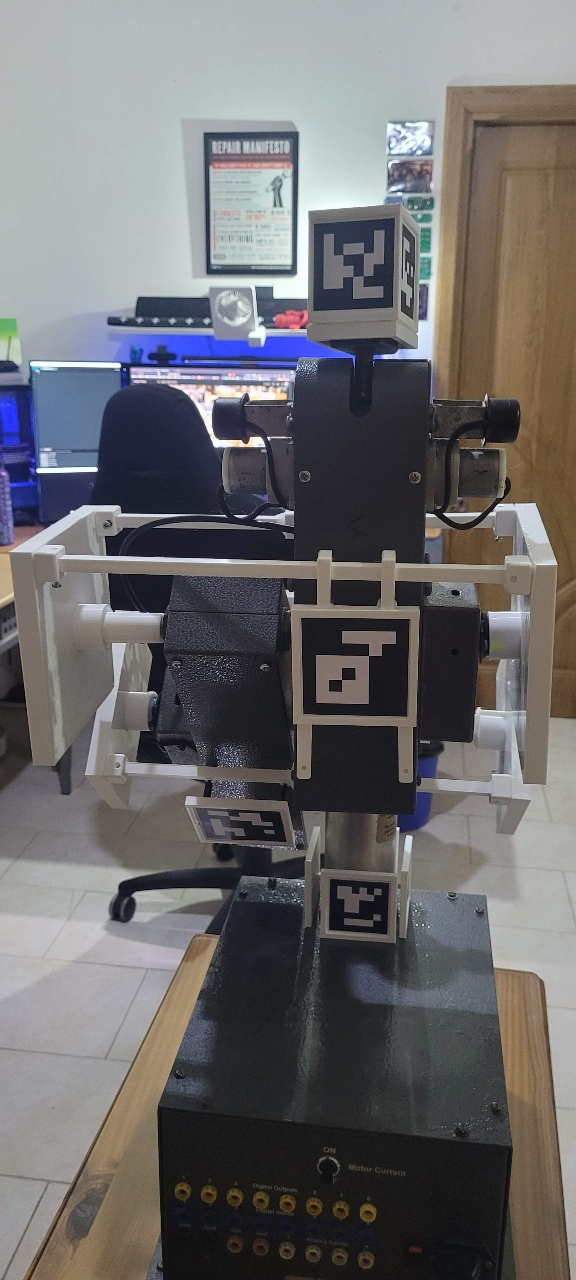Robot: (10, 204, 560, 946)
